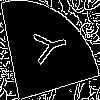Y: (25, 24, 69, 68)
